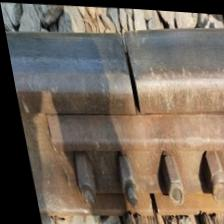person: (47, 2, 207, 141)
